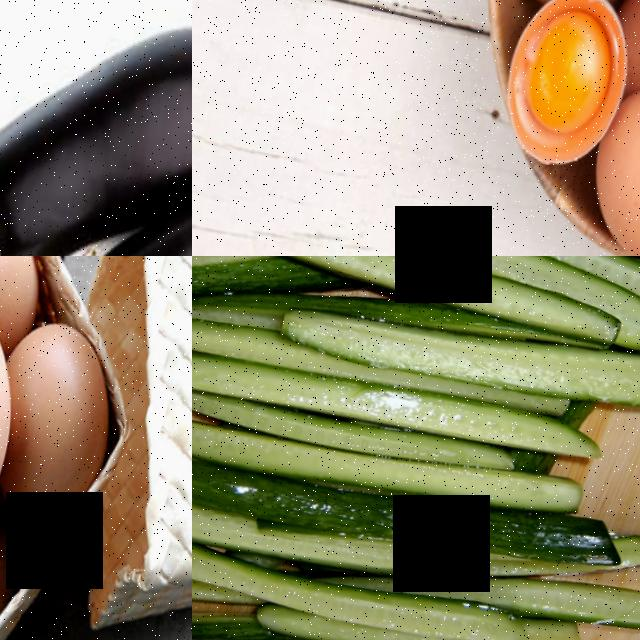cucumber: (192, 316, 613, 484), (218, 438, 623, 598), (192, 521, 532, 640), (374, 297, 640, 439)
egg_: (0, 316, 132, 535), (516, 5, 622, 142), (577, 83, 640, 256), (0, 292, 37, 553)
eggplant: (0, 0, 192, 255)
